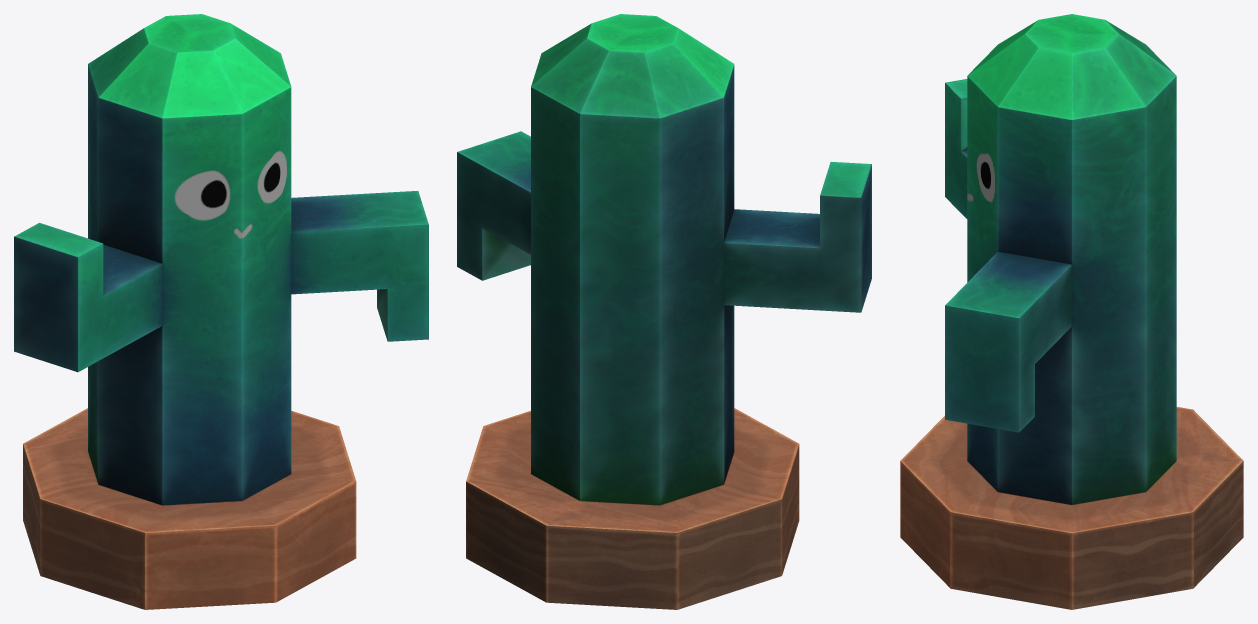
The model's file is Totem_Plante.fbx.
The picture shows the model from 3 angles, left to right: view 1: azimuth 30°, elevation 25°; view 2: azimuth 150°, elevation 25°; view 3: azimuth 270°, elevation 25°; orthographic projection.
Visible parts, largest first — view 1: totem_plant; view 2: totem_plant; view 3: totem_plant.
Part boxes in pixels (x1=…): totem_plant: x1=14, y1=14, x2=428, y2=609; totem_plant: x1=457, y1=14, x2=871, y2=609; totem_plant: x1=900, y1=14, x2=1243, y2=609.
Size of the model in its own units: 281 by 336 by 208.
1 material, 1 textured.
